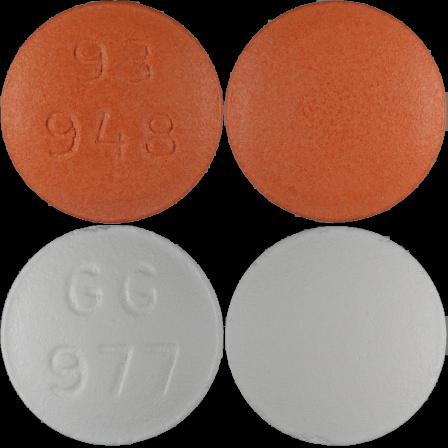50090-0646: (0, 0, 224, 224)
